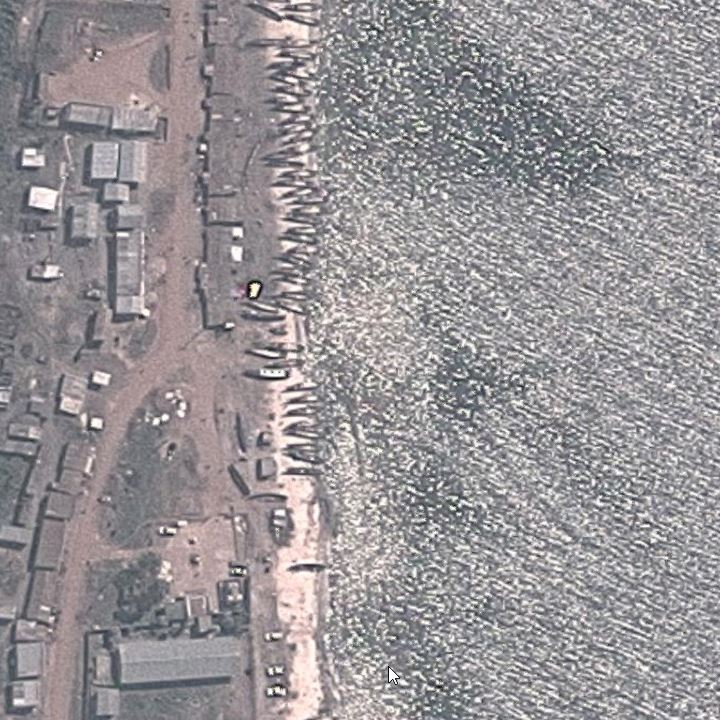boat: (284, 556, 339, 578), (275, 464, 330, 479), (246, 3, 283, 23), (265, 72, 306, 87), (245, 309, 287, 323), (282, 405, 321, 419), (277, 187, 316, 201), (276, 49, 318, 62), (282, 13, 321, 27), (247, 368, 292, 380), (244, 347, 285, 360), (279, 167, 320, 180), (266, 58, 306, 71), (282, 68, 319, 82), (271, 179, 318, 190), (285, 450, 324, 463), (282, 142, 321, 155), (270, 84, 312, 96), (280, 35, 316, 49), (264, 158, 305, 170), (271, 102, 312, 114), (248, 37, 289, 49), (277, 111, 312, 125), (269, 341, 305, 354), (242, 300, 278, 313), (281, 216, 322, 227), (263, 93, 304, 104), (281, 2, 325, 12), (272, 256, 311, 267), (280, 234, 319, 245), (283, 430, 321, 441), (284, 395, 322, 406), (288, 204, 322, 216), (284, 381, 321, 392), (277, 301, 306, 315), (280, 421, 319, 431), (263, 359, 306, 368), (261, 152, 303, 161), (282, 122, 311, 135), (290, 195, 321, 207), (288, 130, 315, 143), (283, 442, 318, 452), (281, 251, 315, 261), (288, 225, 321, 235), (281, 292, 310, 302), (283, 277, 311, 286)
